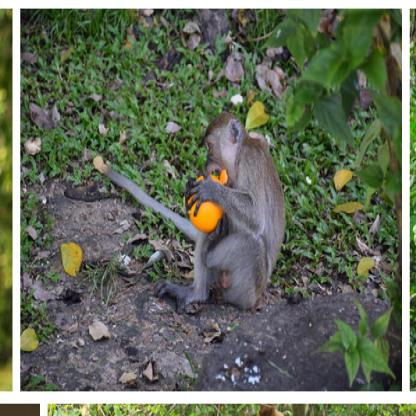monkey: (156, 108, 286, 309)
